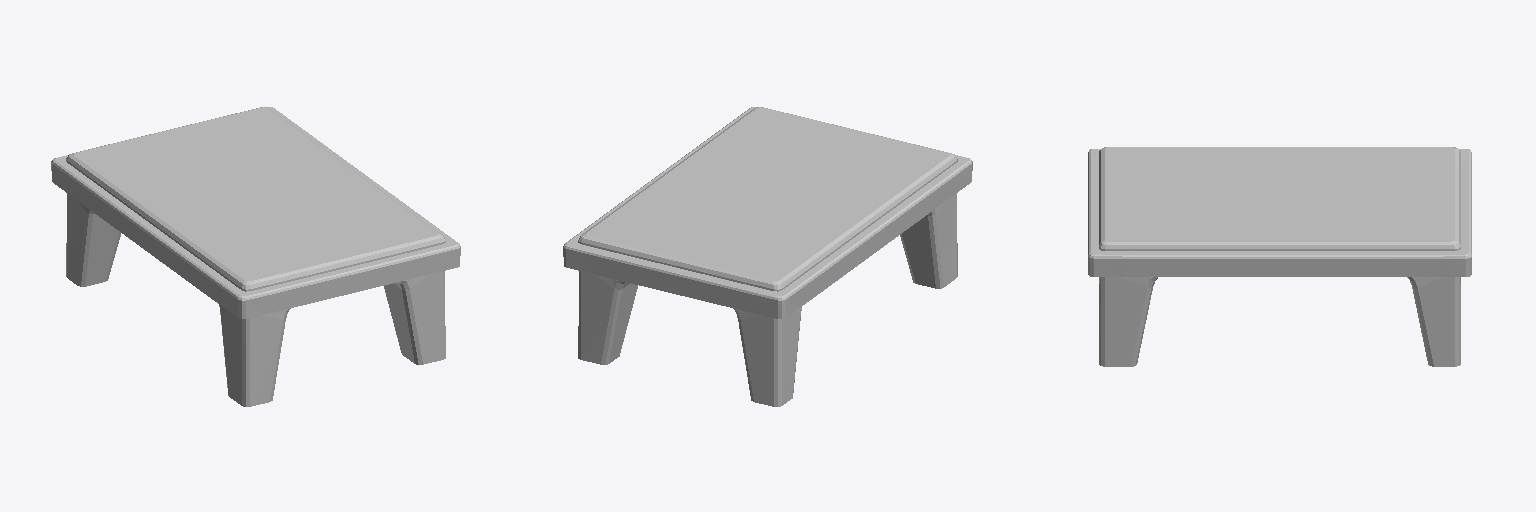
The model's file is Table_and_outline.obj.
The picture shows the model from 3 angles: view 1: azimuth 30°, elevation 25°; view 2: azimuth 150°, elevation 25°; view 3: azimuth 270°, elevation 25°; orthographic projection.
Visible parts, largest first — view 1: Table polySurface1; view 2: Table polySurface1; view 3: Table polySurface1.
Boxes of the visible parts, x1,y1,x2,y2 form: Table polySurface1: [51, 107, 460, 406]; Table polySurface1: [563, 107, 972, 406]; Table polySurface1: [1088, 147, 1471, 366].
Size of the model in its own units: 108 by 57.24 by 162.